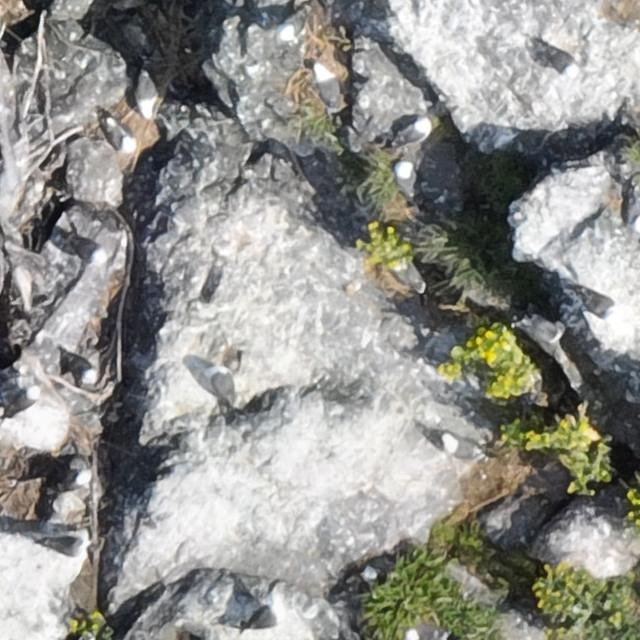umineko: (386, 246, 425, 295), (206, 362, 243, 410), (66, 232, 108, 266), (60, 349, 97, 386), (274, 8, 310, 42), (395, 160, 419, 203), (51, 470, 89, 497), (404, 620, 449, 640), (542, 48, 575, 74), (315, 71, 337, 107), (443, 438, 481, 458), (44, 538, 86, 556), (246, 609, 280, 630), (584, 293, 615, 315), (109, 123, 133, 151), (138, 76, 155, 115), (397, 123, 427, 144), (8, 392, 37, 413), (628, 195, 640, 227)
